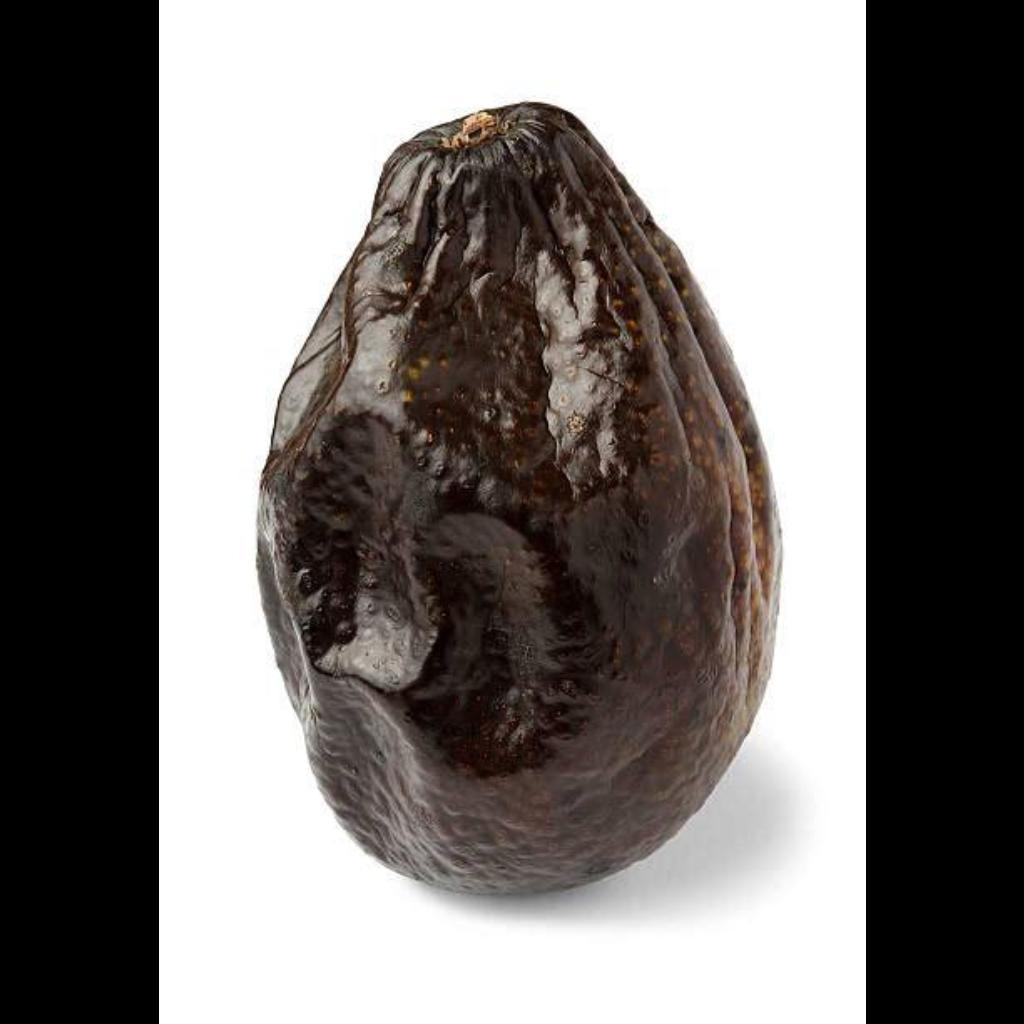antracnosis_fruto: (284, 97, 796, 905)
